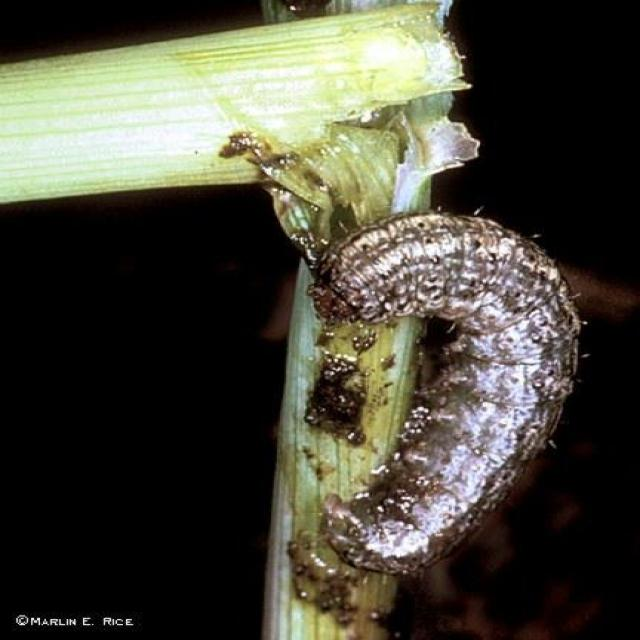black cutworm: (296, 210, 592, 586)
